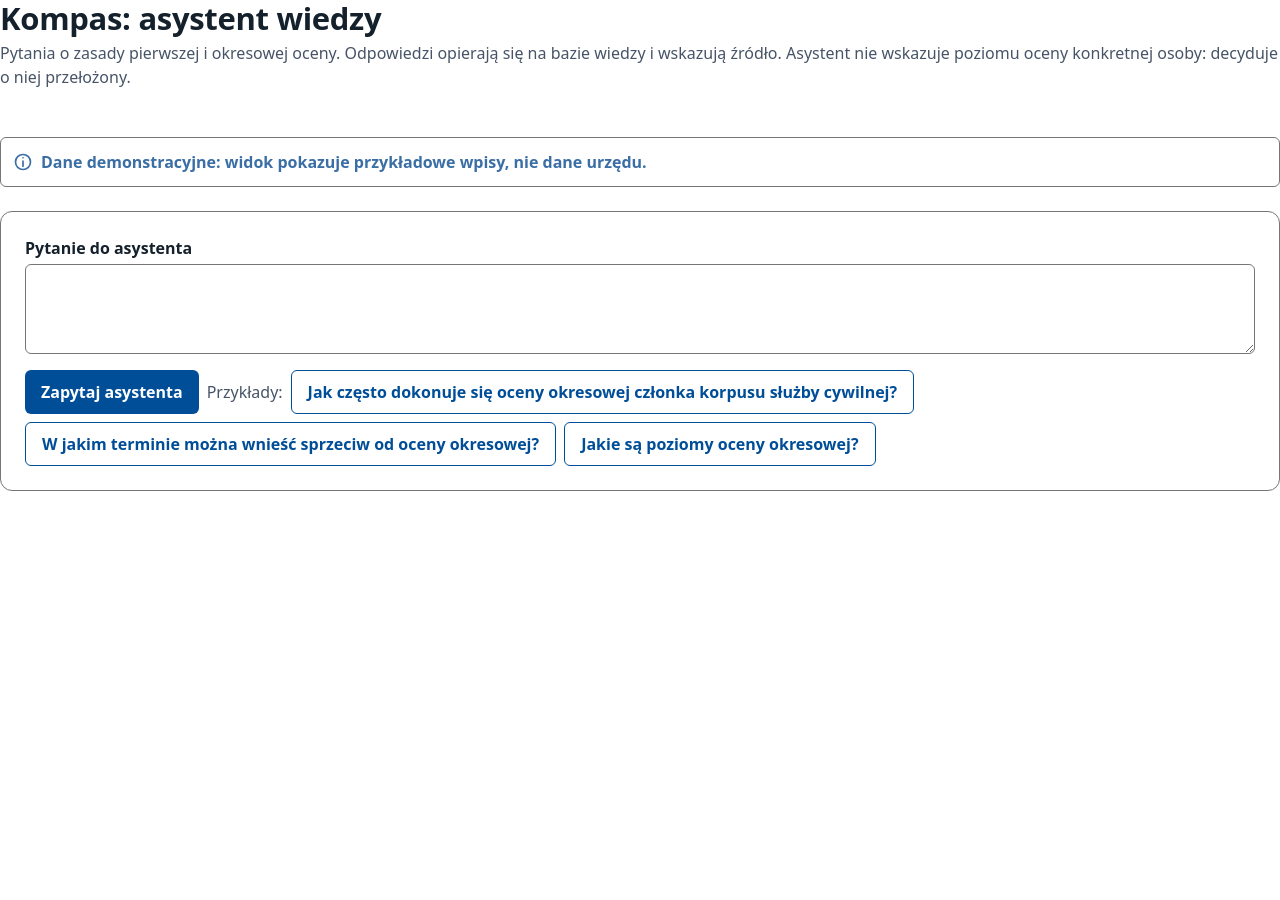
it: AssistantPage › opens the source excerpt and locator when a citation is clicked
The width and height of the screenshot is (1280, 900).
Type "Pytanie o ocenę" into the text box labelled "Pytanie do asystenta".
click(640, 309); type("Pytanie o ocenę")  # box [25,264,1255,354]
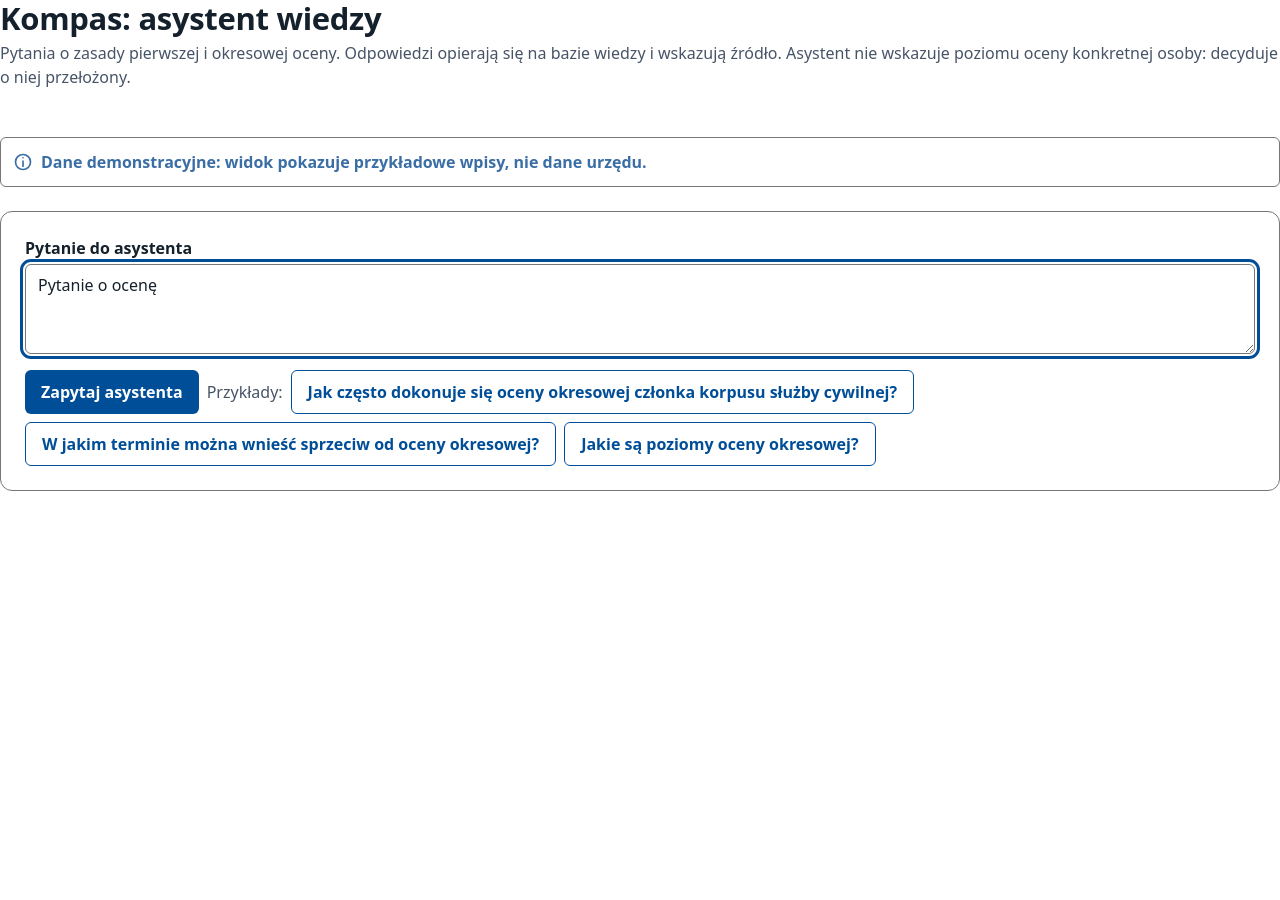
Click the button "Zapytaj asystenta".
click(112, 392)  # box [25,370,199,414]
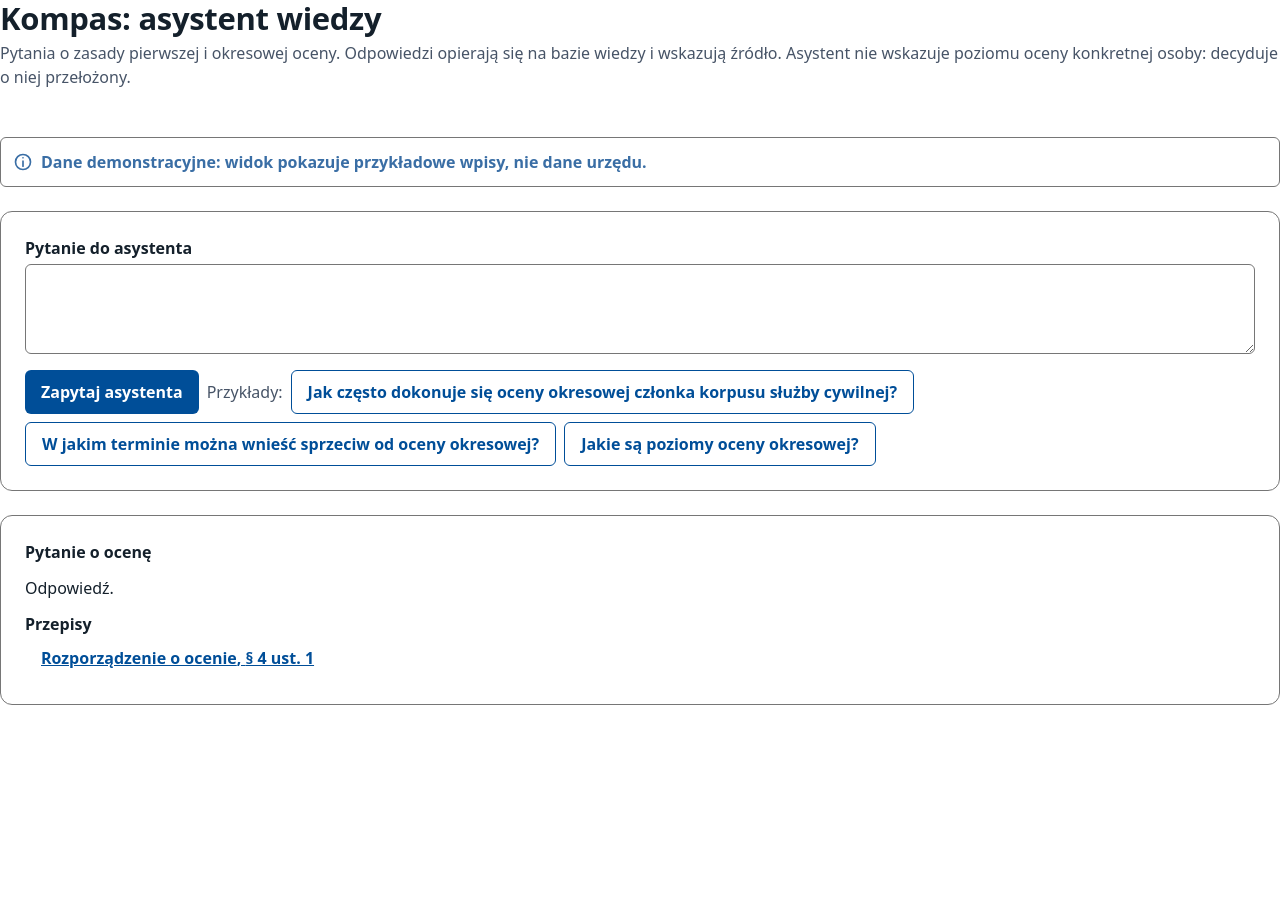
Click the button "Rozporządzenie o ocenie, § 4 ust. 1".
click(178, 658)  # box [25,636,330,680]
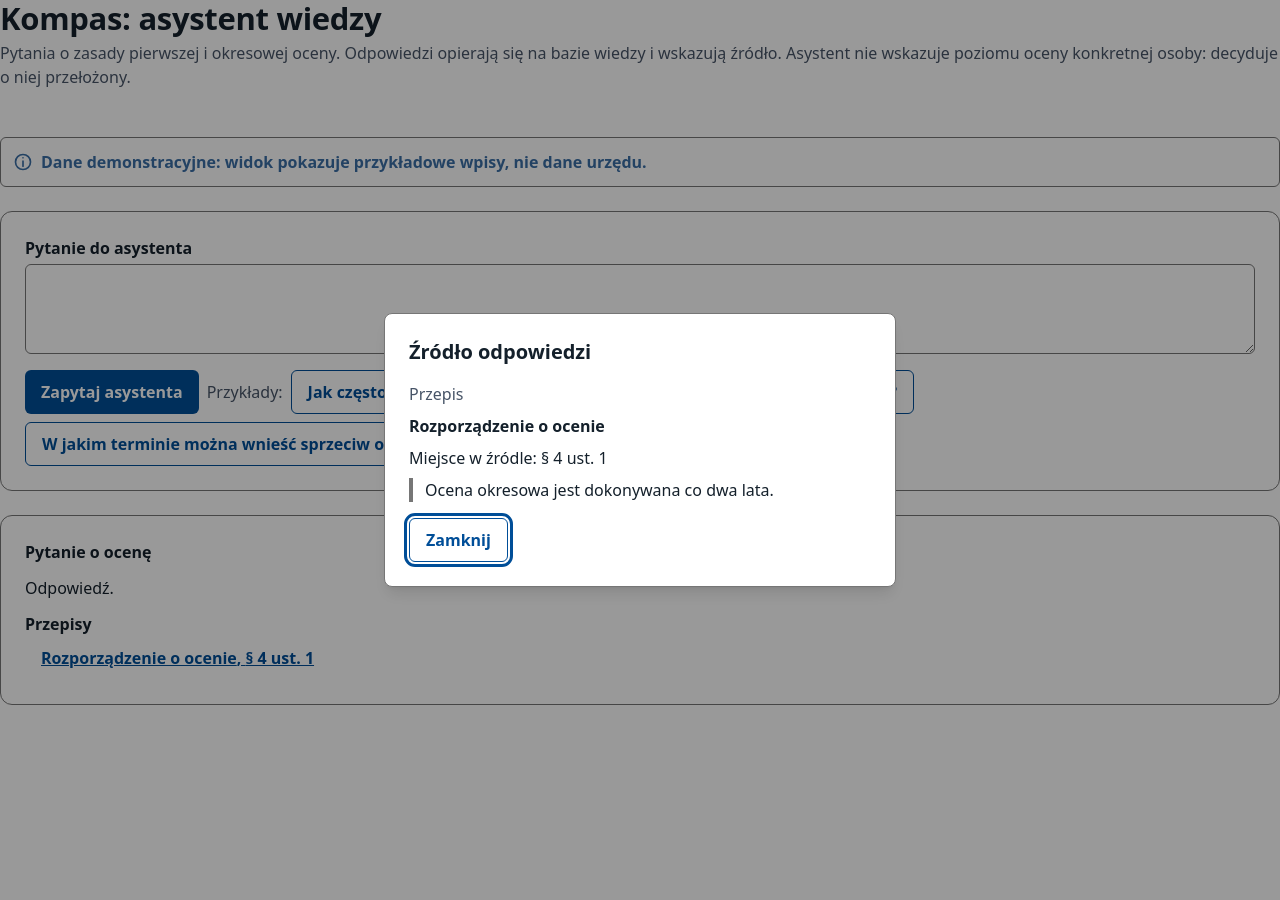
Expected: the text "Ocena okresowa jest dokonywana co dwa lata." is shown, [409,478,871,502]
Expected: the text "Miejsce w źródle: § 4 ust. 1" is shown, [409,447,608,469]
